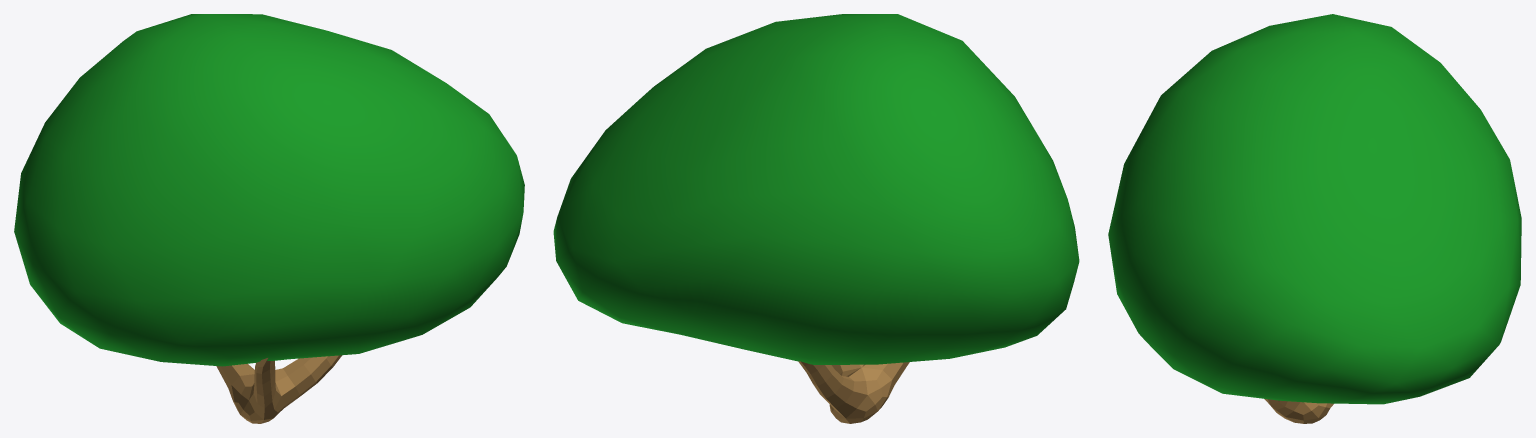
The model's file is Bush.fbx.
3 renders of one model, left to right at view 1: azimuth 30°, elevation 25°; view 2: azimuth 150°, elevation 25°; view 3: azimuth 270°, elevation 25°, orthographic. The views are drawn at different scales.
Visible parts, largest first — view 1: Icosphere.003, Icosphere.004; view 2: Icosphere.003, Icosphere.004; view 3: Icosphere.003, Icosphere.004.
Boxes of the visible parts, x1,y1,x2,y2 form: Icosphere.003: (14,14,524,366); Icosphere.004: (216,355,341,423); Icosphere.003: (553,14,1079,364); Icosphere.004: (798,361,909,423); Icosphere.003: (1108,14,1521,404); Icosphere.004: (1264,399,1333,423).
Size of the model in its own units: 339 by 270 by 268.
